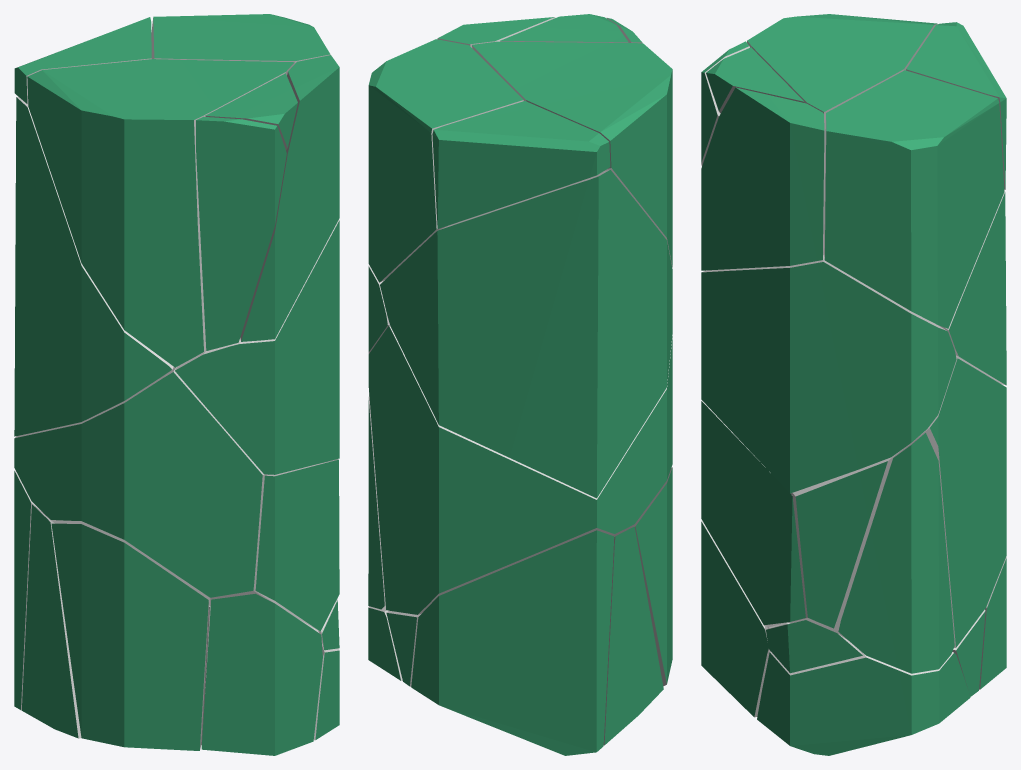
File: hexB4.fbx
3 views of the same model, side by side, from view 1: azimuth 30°, elevation 25°; view 2: azimuth 150°, elevation 25°; view 3: azimuth 270°, elevation 25° (orthographic). The views are drawn at different scales.
Parts seen in each view (by area): view 1: Cr_Hex_CA_Cracked_M.002; view 2: Cr_Hex_CA_Cracked_M.002; view 3: Cr_Hex_CA_Cracked_M.002.
Boxes of the visible parts, x1,y1,x2,y2 form: Cr_Hex_CA_Cracked_M.002: (14, 14, 339, 755); Cr_Hex_CA_Cracked_M.002: (368, 14, 672, 755); Cr_Hex_CA_Cracked_M.002: (701, 14, 1006, 755).
Bounding box in the file's own units: 0.0294 × 0.0699 × 0.0303.
